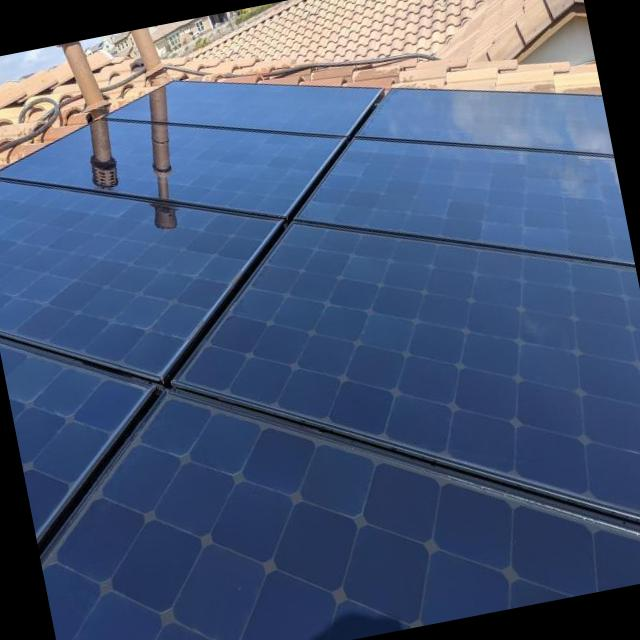no faulty: (49, 403, 640, 640), (184, 221, 640, 510), (0, 183, 283, 374), (290, 137, 628, 262), (0, 117, 347, 215), (1, 347, 151, 539), (363, 86, 614, 154), (112, 83, 379, 135)
